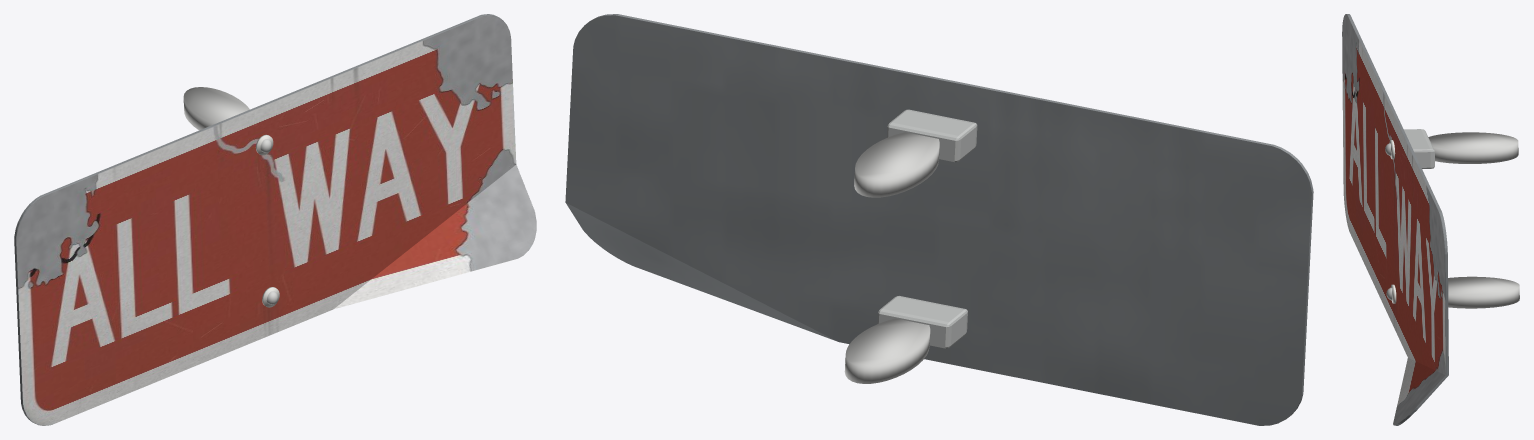
The model's file is allWay-v1-battered.glb.
3 renders of one model, left to right at view 1: azimuth 30°, elevation 25°; view 2: azimuth 150°, elevation 25°; view 3: azimuth 270°, elevation 25°, orthographic. The views are drawn at different scales.
Parts seen in each view (by area): view 1: allWay-v1-battered; view 2: allWay-v1-battered; view 3: allWay-v1-battered.
Part boxes in pixels (x1=…): allWay-v1-battered: x1=14, y1=14, x2=536, y2=425; allWay-v1-battered: x1=565, y1=14, x2=1313, y2=425; allWay-v1-battered: x1=1342, y1=14, x2=1519, y2=425.
Size of the model in its own units: 0.3846 by 0.1683 by 0.1156.
1 material, 1 textured.
